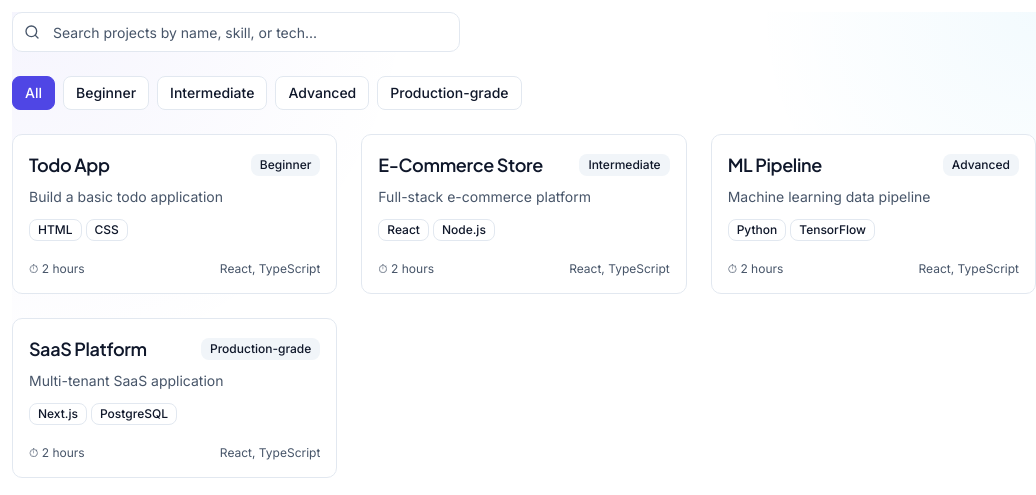
ProjectsHub › Skill-level filtering (Req 8.3, 8.4) › filters to show only Intermediate projects
The width and height of the screenshot is (1036, 495).
Click the button "Intermediate".
click(212, 93)  # box x1=157 y1=76 x2=267 y2=110
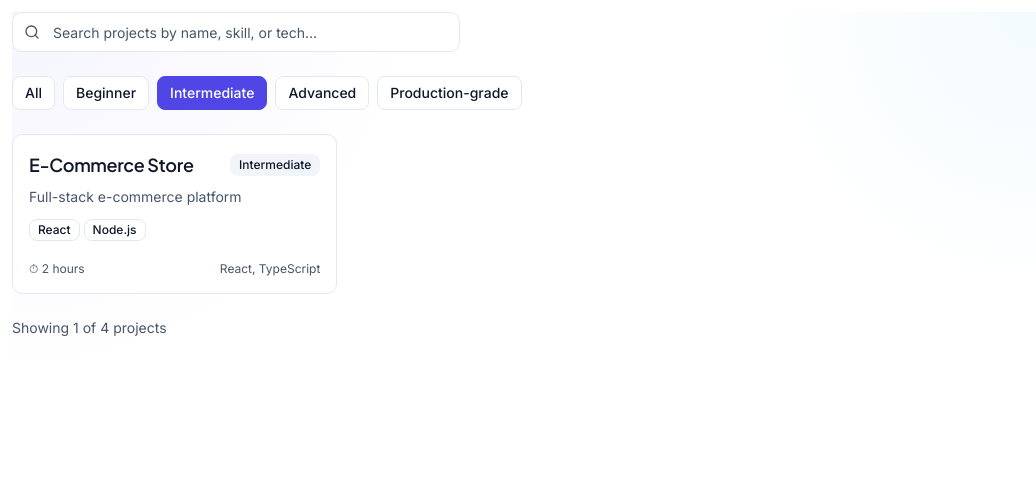
Expected: the heading "E-Commerce Store" is shown, x1=29 y1=151 x2=194 y2=179
Now the link "Todo App" is gone
Now the link "ML Pipeline" is gone
